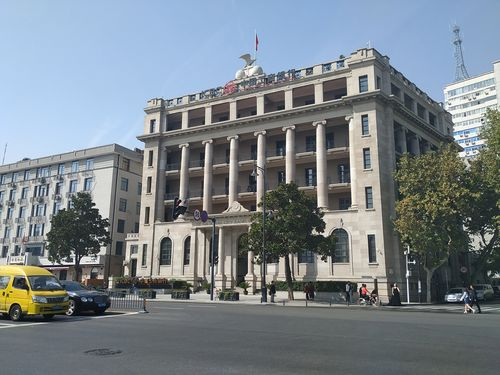buildings: (73, 50, 482, 289)
